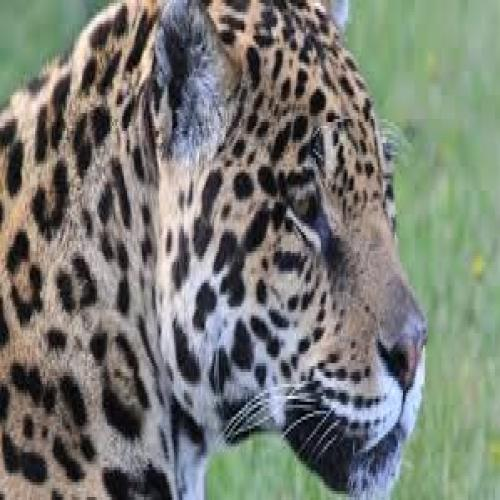jaguar_not-endangered: (0, 0, 430, 500)
